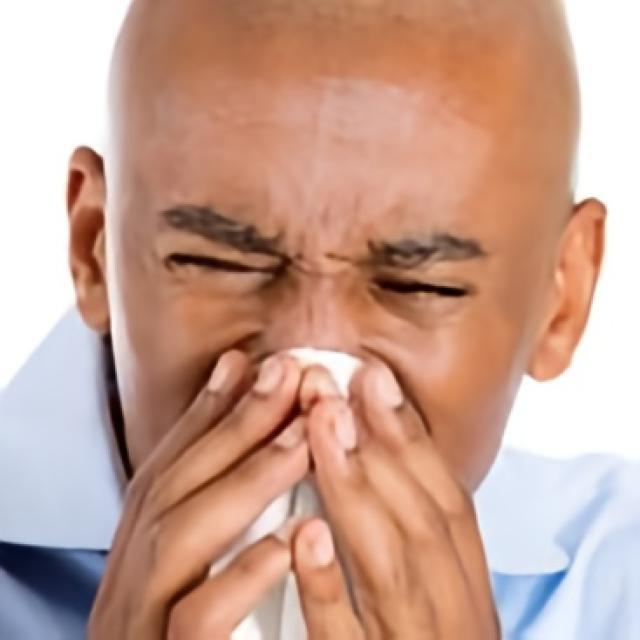disgust: (104, 0, 582, 582)
